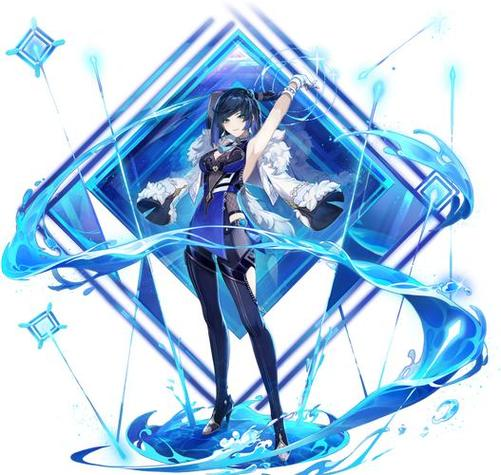夜兰: (181, 69, 334, 464)
